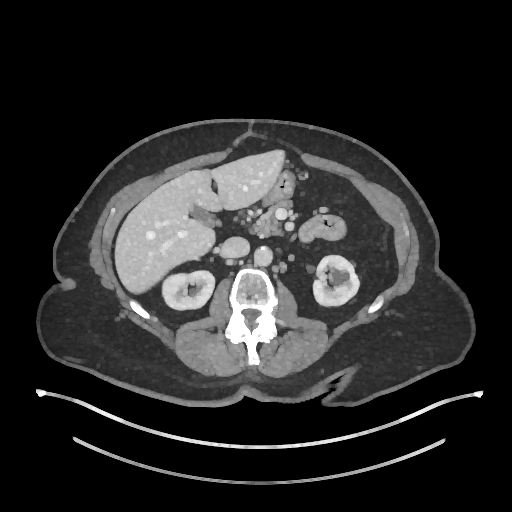Lesion: (325, 264, 354, 290)
